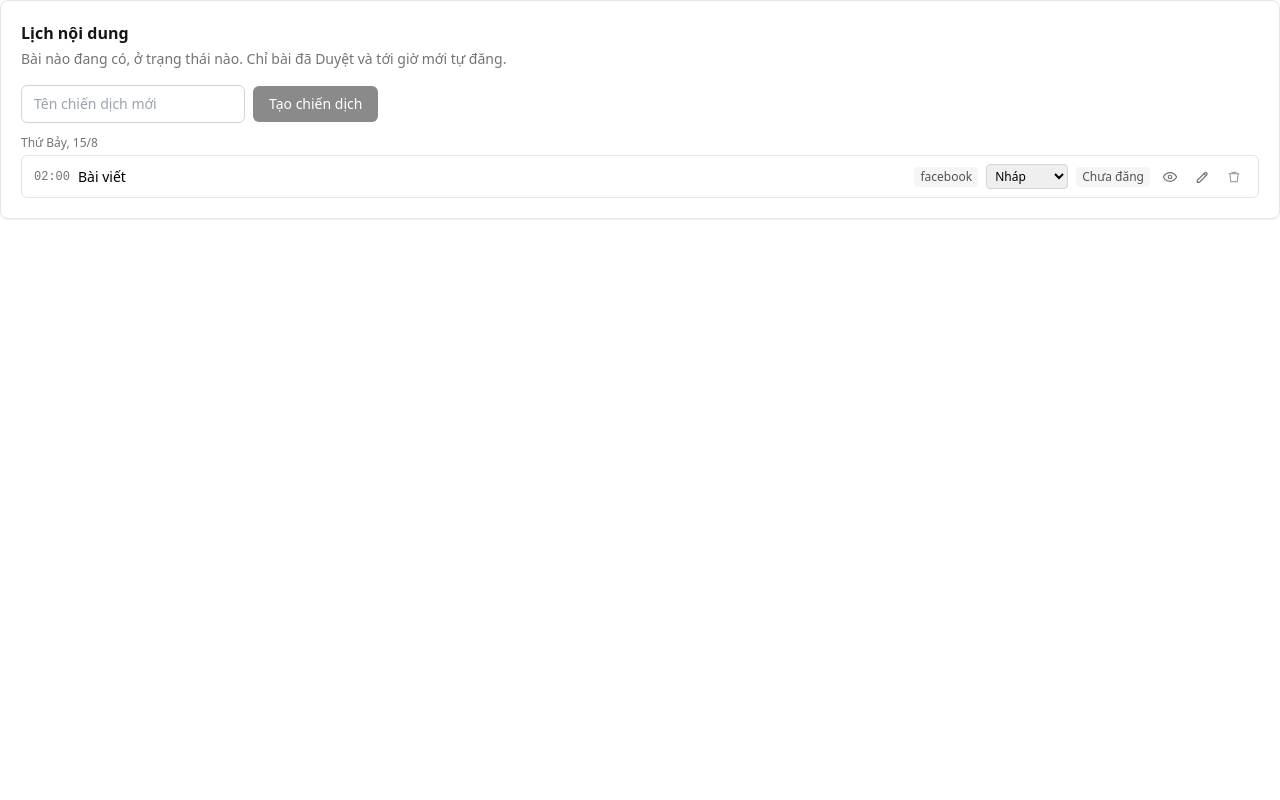
Scenario: CalendarPanel › says so instead of pretending to save nothing
The width and height of the screenshot is (1280, 800).
Expected: the text "Bài viết" is shown, [78,166,126,186]
Click the button named "Sửa \"Bài viết\"": (1202, 176) [1190,164,1214,188]
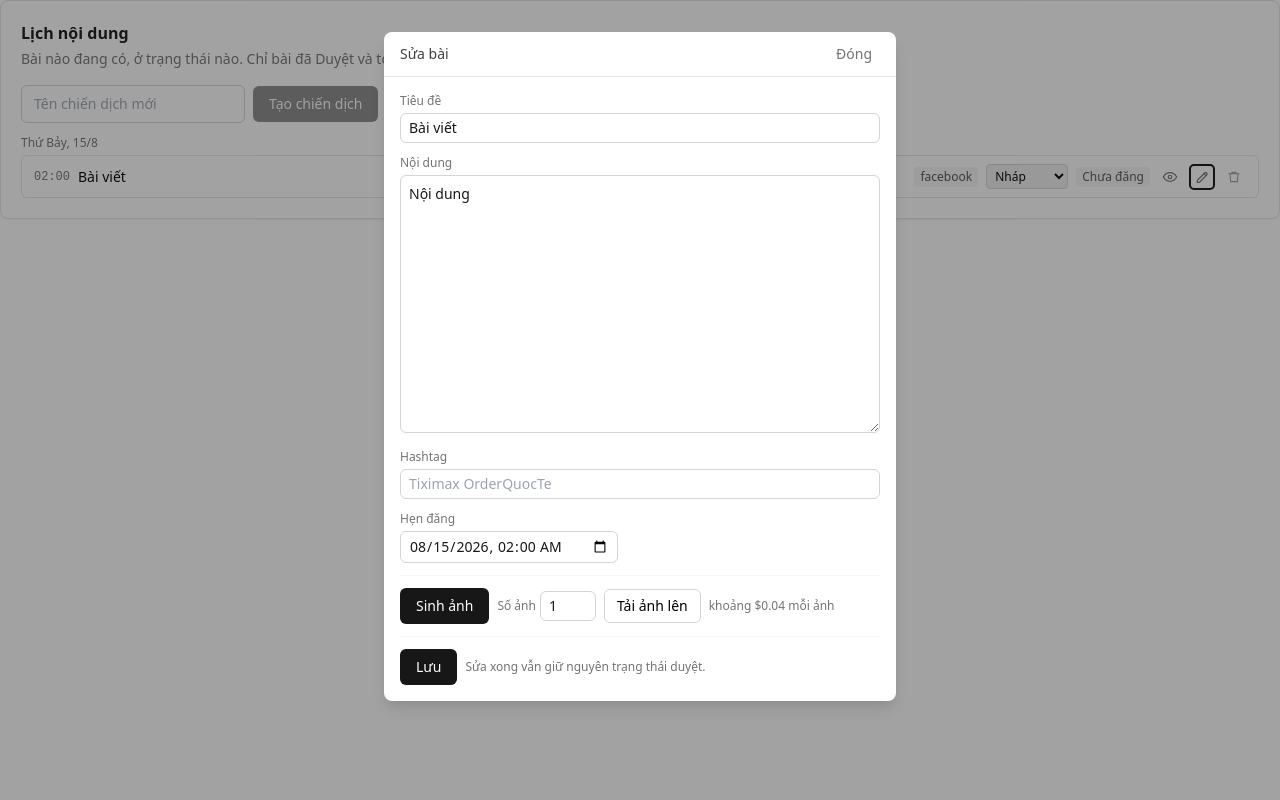
Click the button "Lưu": (429, 667) [400,649,457,685]
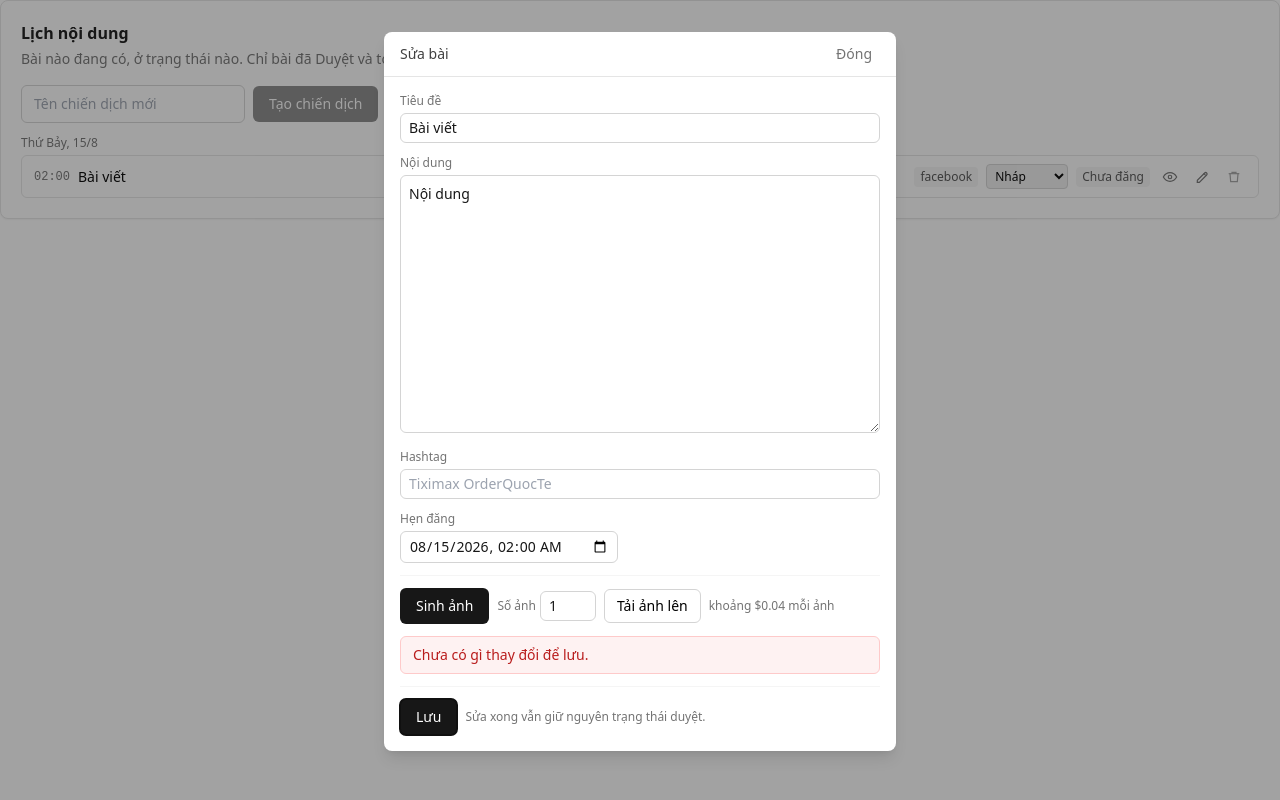
Expected: the text "Chưa có gì thay đổi để lưu." is shown, [400,636,880,674]
